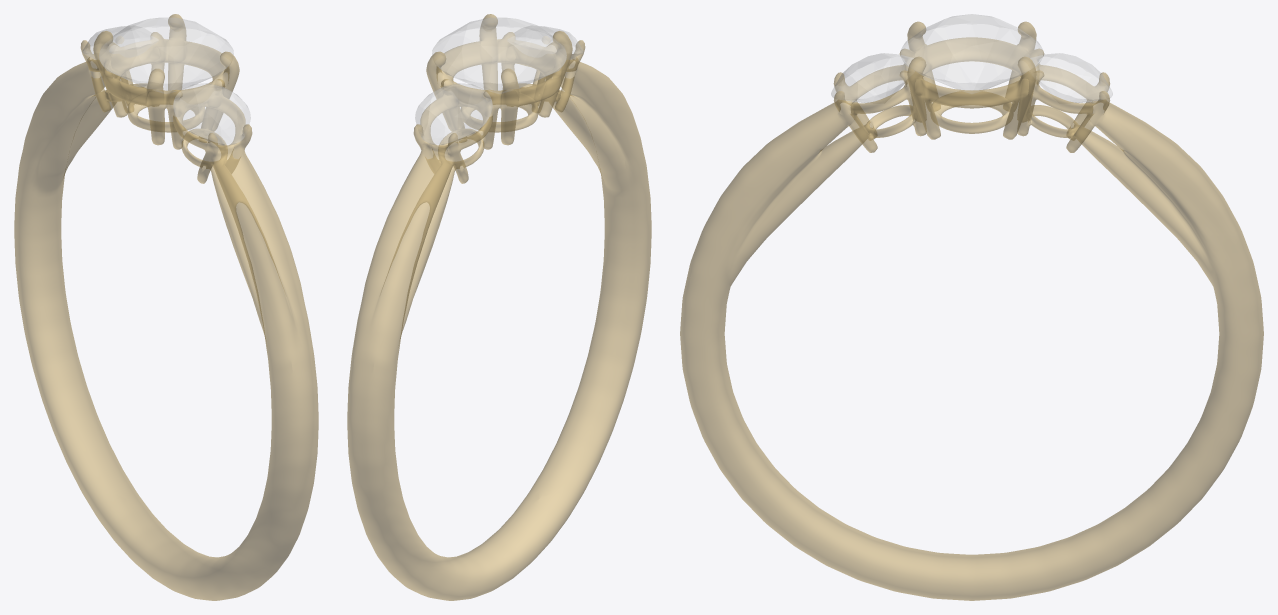
3 renders of one model, left to right at view 1: azimuth 30°, elevation 25°; view 2: azimuth 150°, elevation 25°; view 3: azimuth 270°, elevation 25°, orthographic. The views are drawn at different scales.
Parts seen in each view (by area): view 1: Ring, Diamond; view 2: Ring, Diamond; view 3: Ring, Diamond.
Boxes of the visible parts, x1=… form: Ring: x1=14, y1=14, x2=318, y2=600; Diamond: x1=82, y1=18, x2=250, y2=144; Ring: x1=347, y1=14, x2=651, y2=600; Diamond: x1=415, y1=18, x2=583, y2=144; Ring: x1=680, y1=21, x2=1263, y2=600; Diamond: x1=831, y1=14, x2=1112, y2=102.
Bounding box in the file's own units: 0.5665 × 2.49 × 2.32.
